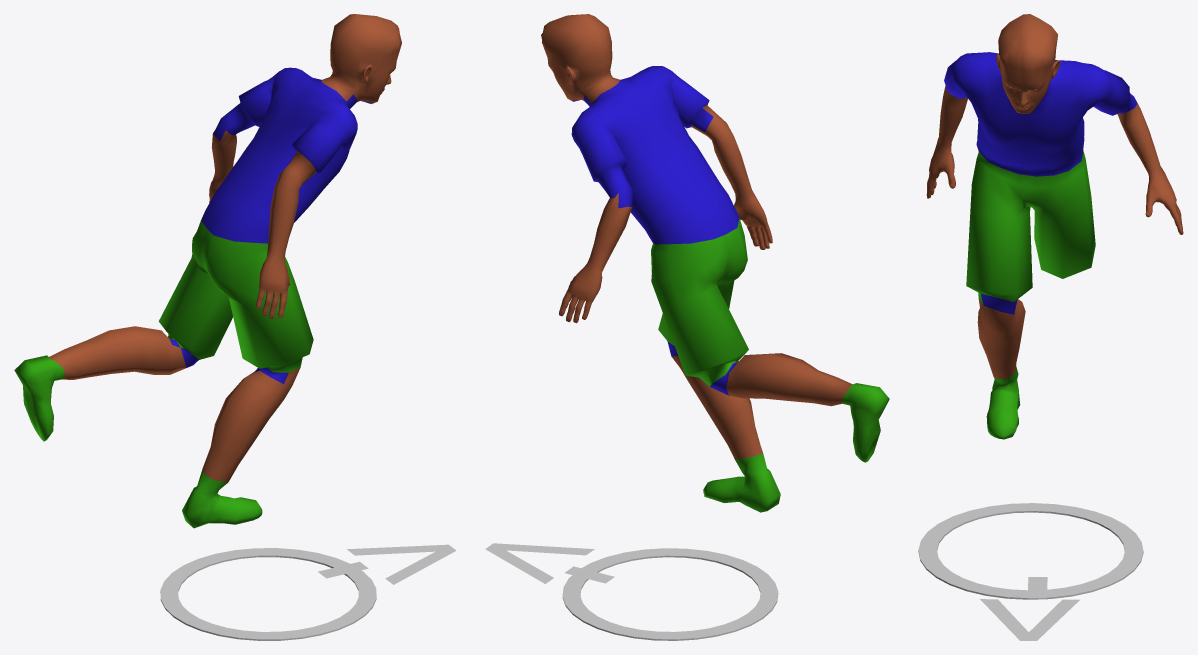
Rendered from playerAI_000003.obj.
3 renders of one model, left to right at view 1: azimuth 30°, elevation 25°; view 2: azimuth 150°, elevation 25°; view 3: azimuth 270°, elevation 25°, orthographic. The views are drawn at different scales.
Visible parts, largest first — view 1: soccerplayer.003_mesh.002, Circle.001, Text_Mesh; view 2: soccerplayer.003_mesh.002, Circle.001, Text_Mesh; view 3: soccerplayer.003_mesh.002, Circle.001, Text_Mesh.
Part boxes in pixels (<box>): soccerplayer.003_mesh.002: <box>14,14,401,528</box>; Circle.001: <box>160,548,376,640</box>; Text_Mesh: <box>318,544,456,584</box>; soccerplayer.003_mesh.002: <box>541,14,889,512</box>; Circle.001: <box>562,548,778,640</box>; Text_Mesh: <box>485,543,614,583</box>; soccerplayer.003_mesh.002: <box>926,14,1183,439</box>; Circle.001: <box>918,503,1143,599</box>; Text_Mesh: <box>980,577,1079,640</box>.
Bounding box in the file's own units: 2.4 × 3.1 × 1.28.
